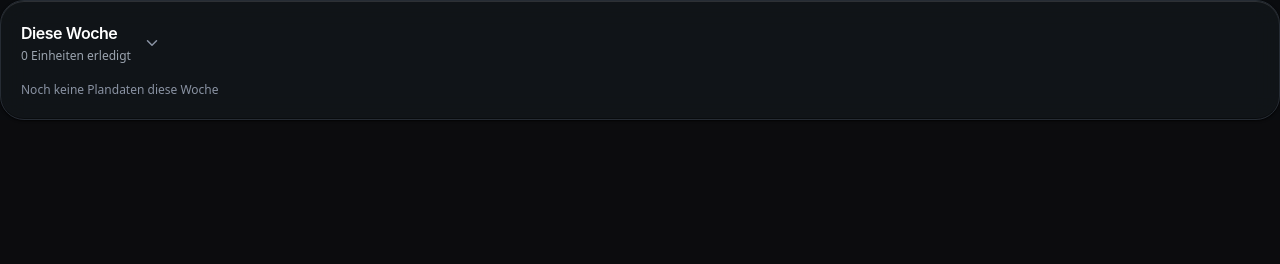
Test: ThisWeekCard › hides the stats row and day dots until expanded
expect the text "Diese Woche" is shown: met, box [21,21,131,45]
expect the text "TSS erledigt" is not shown: met
Click the button "Diese Woche 0 Einheiten erledigt" at x=69, y=33, box [21,21,1259,65]
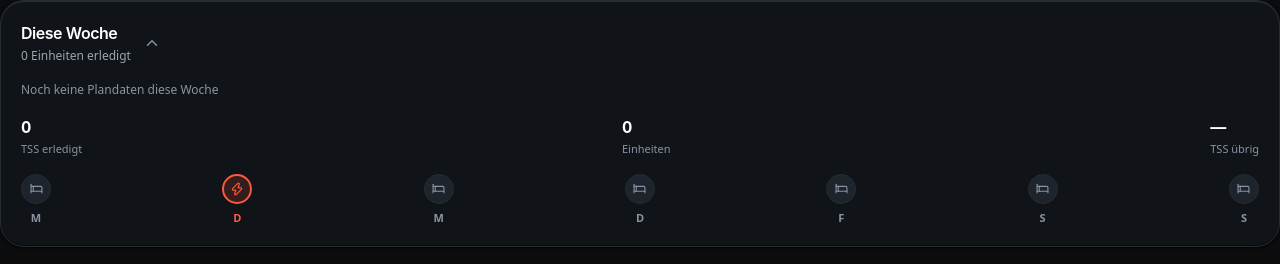
expect the text "TSS erledigt" is shown: met, box [21,141,82,158]
